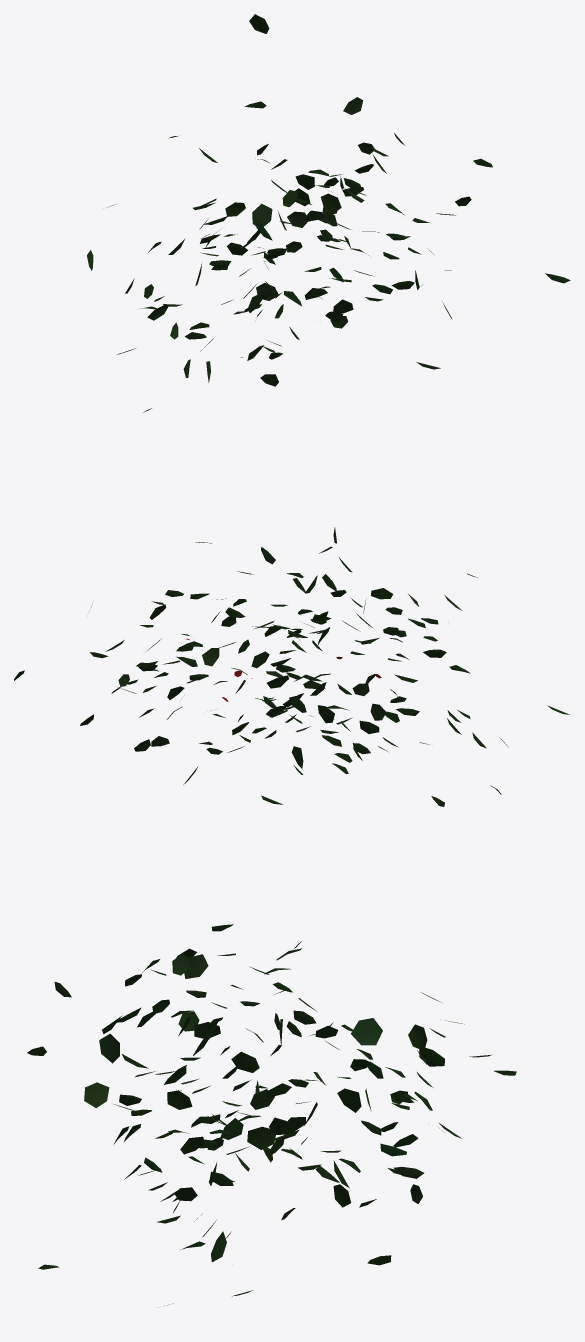
File: SM_Tree_garden_low_2.glb
3 renders of one model, top to bottom at view 1: azimuth 30°, elevation 25°; view 2: azimuth 150°, elevation 25°; view 3: azimuth 270°, elevation 25°, orthographic. The views are drawn at different scales.
Parts seen in each view (by area): view 1: SM_Tree_garden_low_2; view 2: SM_Tree_garden_low_2; view 3: SM_Tree_garden_low_2.
Boxes of the visible parts, bbox=[...] form: SM_Tree_garden_low_2: bbox=[87, 14, 570, 412]; SM_Tree_garden_low_2: bbox=[14, 527, 569, 806]; SM_Tree_garden_low_2: bbox=[27, 924, 516, 1305].
Size of the model in its own units: 1.12 by 0.6844 by 0.8952.
